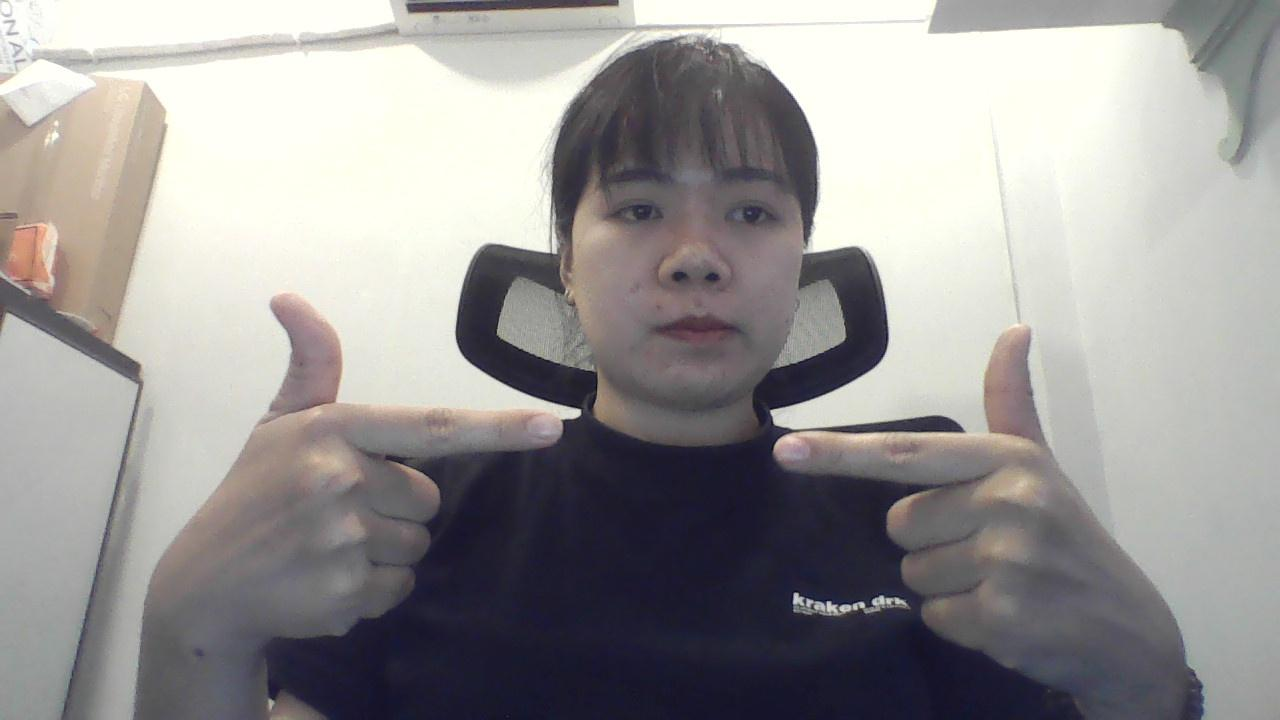G: (123, 276, 574, 667), (762, 322, 1176, 694)
